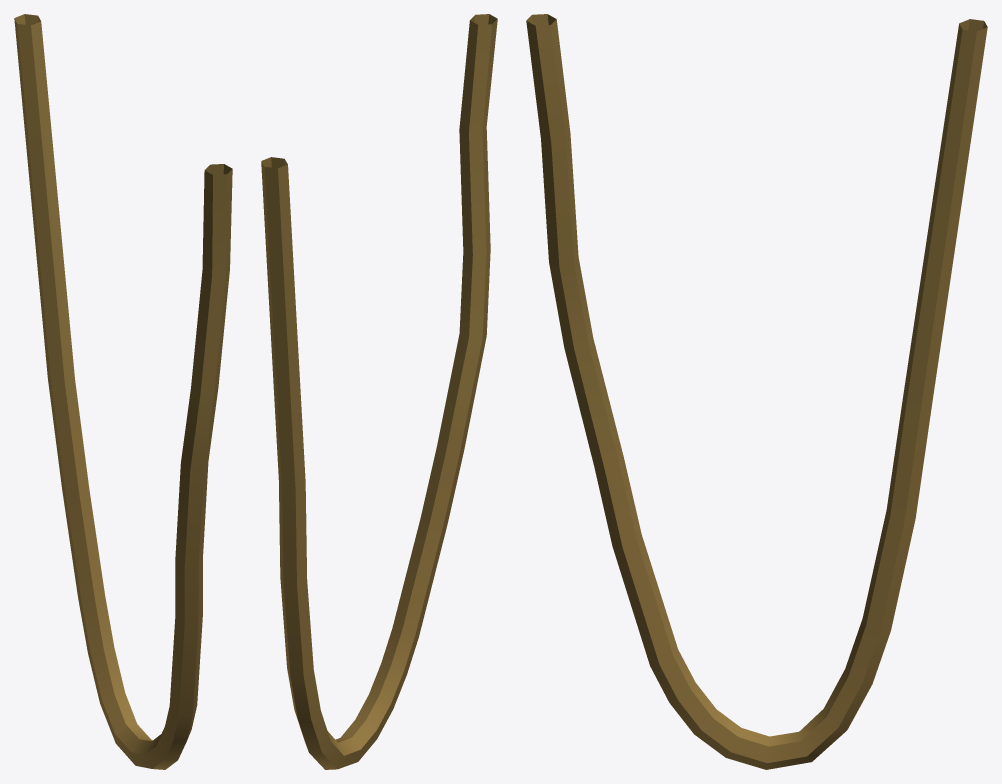
The model's file is Rope_1_C.glb.
The picture shows the model from 3 angles, left to right: view 1: azimuth 30°, elevation 25°; view 2: azimuth 150°, elevation 25°; view 3: azimuth 270°, elevation 25°; orthographic projection. The views are drawn at different scales.
Parts seen in each view (by area): view 1: Rope_1_C; view 2: Rope_1_C; view 3: Rope_1_C.
Part boxes in pixels (x1,y1,x2,y2): Rope_1_C: (14, 14, 232, 769); Rope_1_C: (261, 14, 497, 769); Rope_1_C: (526, 14, 987, 769).
Size of the model in its own units: 0.1655 by 1.77 by 1.01.
Materials: 1 (1 with a texture image).
